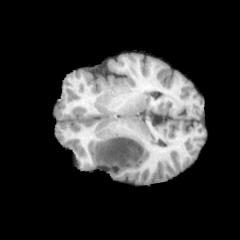glioma: (94, 135, 144, 168)
